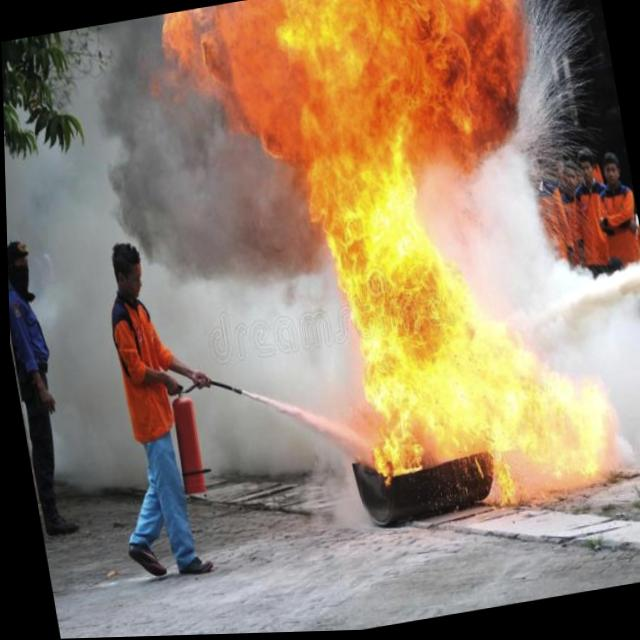FireExtinguisher: (159, 367, 262, 502)
